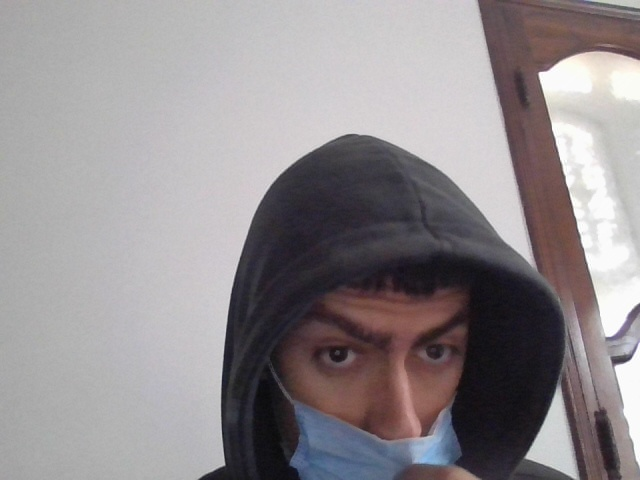mask_weared_incorrect: (279, 235, 509, 480)
